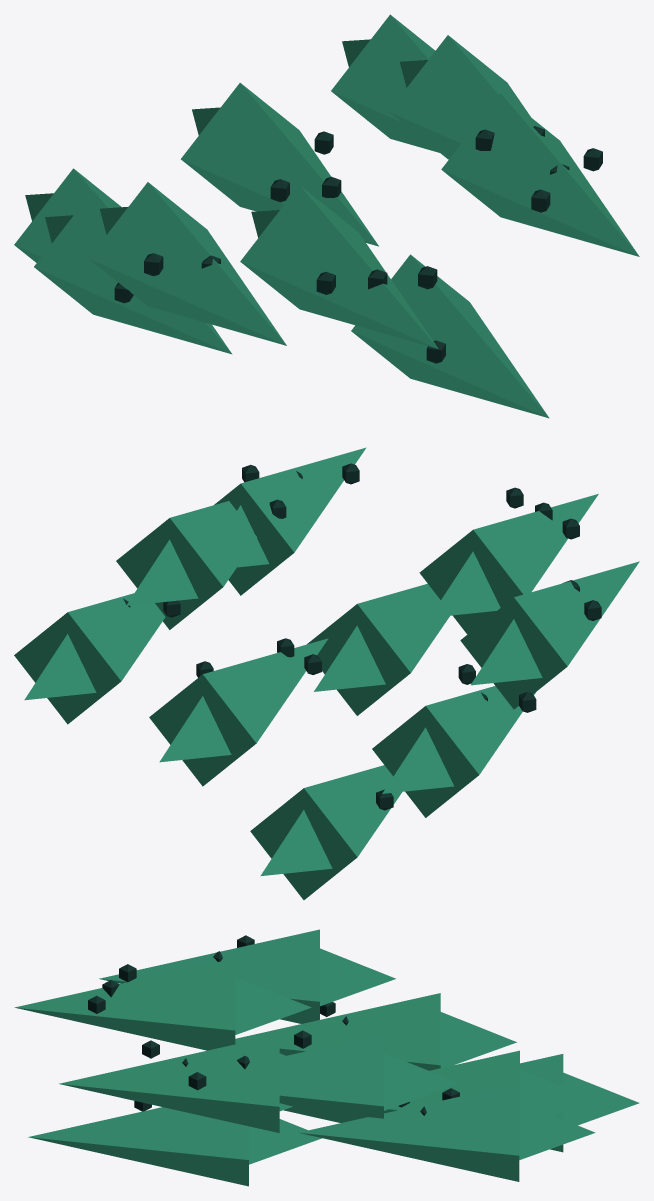
The model's file is swamp_fishSchool.glb.
3 renders of one model, top to bottom at view 1: azimuth 30°, elevation 25°; view 2: azimuth 150°, elevation 25°; view 3: azimuth 270°, elevation 25°, orthographic. The views are drawn at different scales.
Parts seen in each view (by area): view 1: n32, n24, n9, n54, n17, n39, n2, n62, n47; view 2: n54, n32, n24, n39, n62, n47, n17, n9, n2, n49, n19, n41 (+6 smaller); view 3: n62, n9, n24, n17, n2, n39, n32, n54, n41, n26, n64, n4 (+5 smaller).
Part boxes in pixels (<box>): n32: <box>88,182,286,345</box>; n24: <box>240,185,438,348</box>; n9: <box>441,93,639,256</box>; n54: <box>181,83,378,246</box>; n17: <box>351,254,549,418</box>; n39: <box>34,190,232,354</box>; n2: <box>388,35,530,159</box>; n62: <box>331,14,439,152</box>; n47: <box>14,168,121,262</box>; n54: <box>149,638,328,786</box>; n32: <box>460,561,639,709</box>; n24: <box>419,494,598,634</box>; n39: <box>372,686,535,817</box>; n62: <box>14,593,165,724</box>; n47: <box>250,765,402,899</box>; n17: <box>307,583,449,715</box>; n9: <box>214,447,366,595</box>; n2: <box>116,501,257,629</box>; n49: <box>260,810,332,876</box>; n19: <box>314,625,385,691</box>; n41: <box>382,727,453,793</box>; n62: <box>298,1083,519,1181</box>; n9: <box>59,1034,279,1132</box>; n24: <box>14,958,235,1050</box>; n17: <box>28,1107,248,1186</box>; n2: <box>279,1034,383,1122</box>; n39: <box>235,993,440,1070</box>; n32: <box>99,929,319,1023</box>; n54: <box>384,1050,519,1113</box>; n41: <box>440,1012,516,1067</box>; n26: <box>235,977,311,1034</box>; n64: <box>519,1102,595,1159</box>; n4: <box>384,1053,459,1110</box>.
Size of the model in its own units: 2.62 by 1.42 by 3.68.
